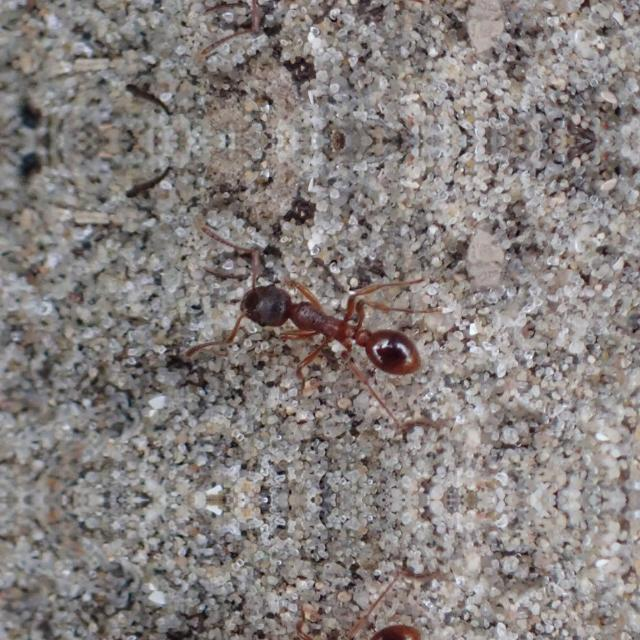Myrmica: (208, 256, 444, 384), (206, 614, 444, 640)
